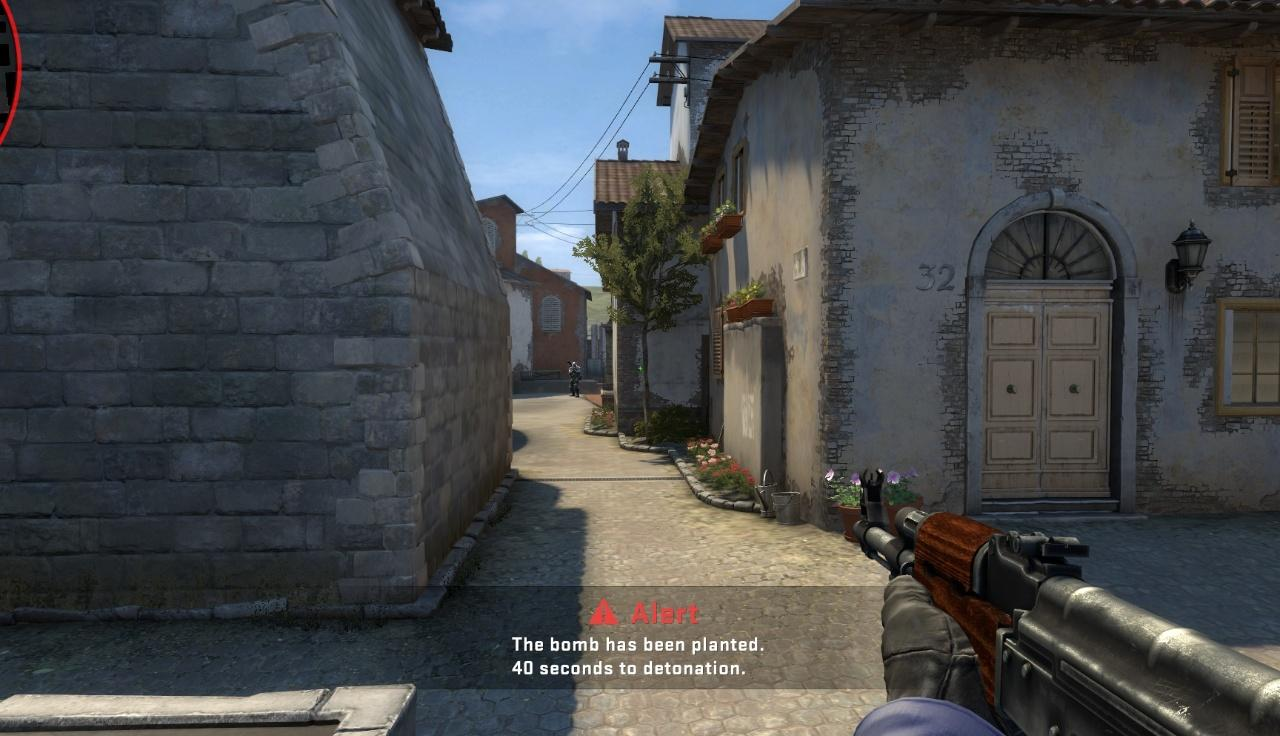ct: (568, 362, 581, 398)
cthead: (572, 362, 576, 368)
rifle: (838, 489, 1278, 731)
